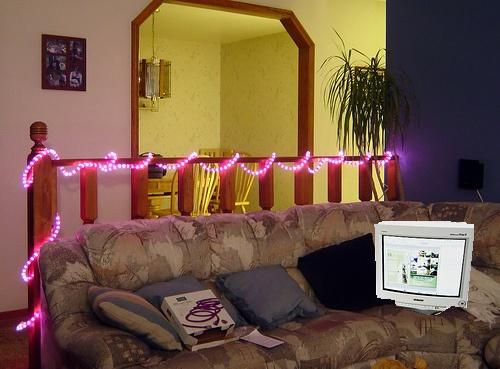tampered: (375, 222, 474, 315)
